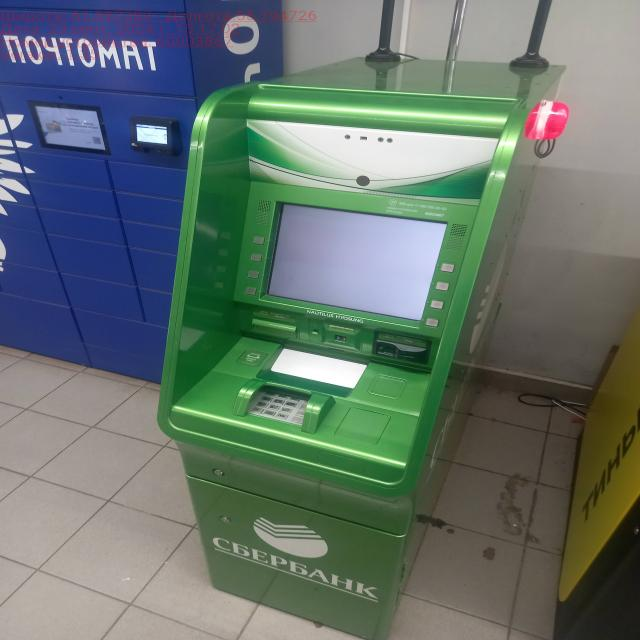bank: (162, 52, 568, 635)
